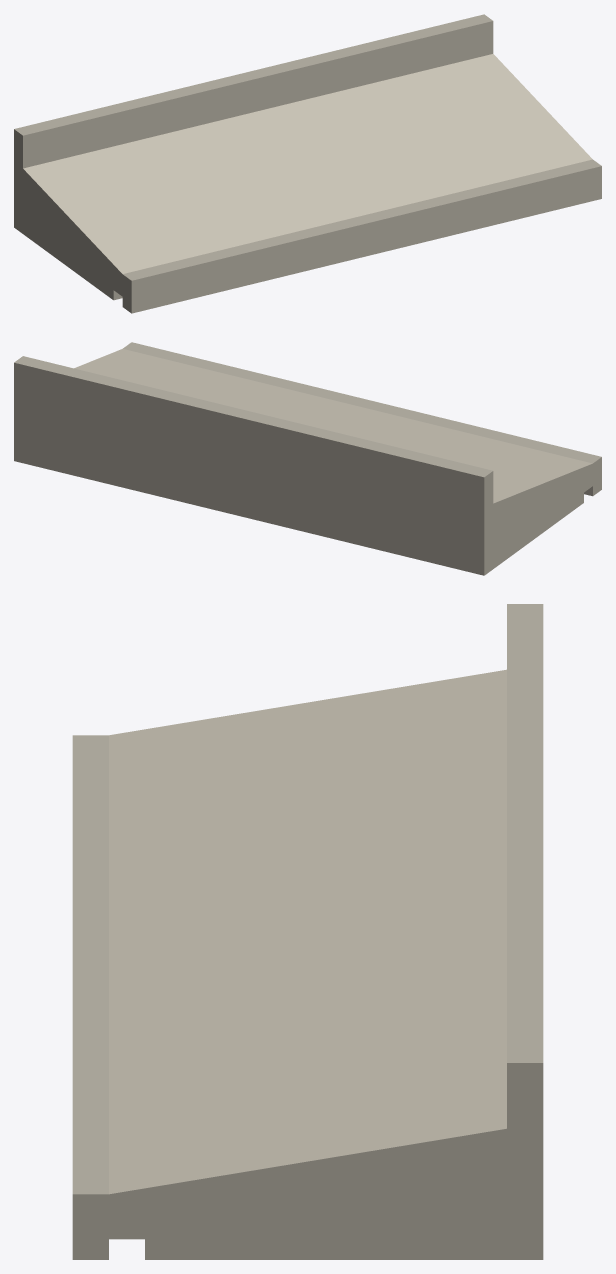
3 renders of one model, top to bottom at view 1: azimuth 30°, elevation 25°; view 2: azimuth 150°, elevation 25°; view 3: azimuth 270°, elevation 25°, orthographic. The views are drawn at different scales.
Parts seen in each view (by area): view 1: WholeSlopedRearRebatedDripGrooveSill; view 2: WholeSlopedRearRebatedDripGrooveSill; view 3: WholeSlopedRearRebatedDripGrooveSill.
Boxes of the visible parts, box(x1,y1,x2,y2) form: WholeSlopedRearRebatedDripGrooveSill: box(14, 14, 601, 313); WholeSlopedRearRebatedDripGrooveSill: box(14, 342, 601, 575); WholeSlopedRearRebatedDripGrooveSill: box(72, 604, 543, 1259).
Bounding box in the file's own units: 1.2 × 0.24 × 0.52.
